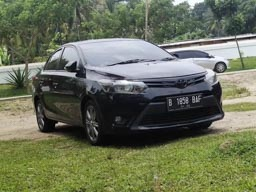plat: (168, 95, 202, 106)
